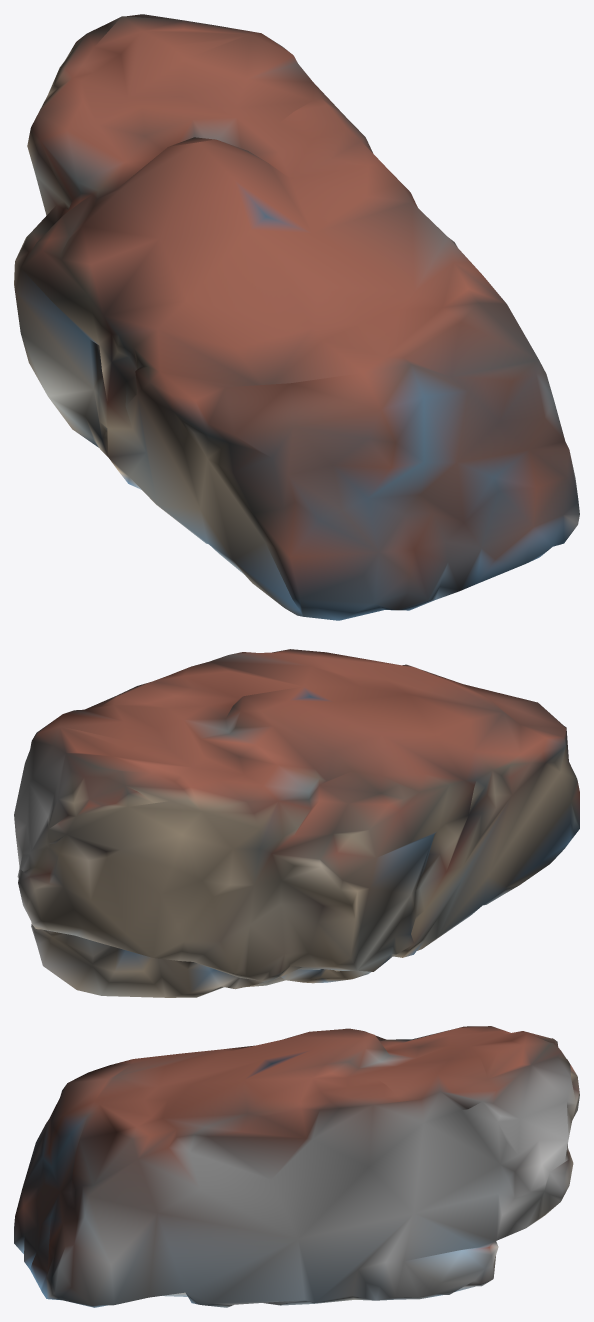
File: rock-07.lod1.888b24dd.glb
3 renders of one model, top to bottom at view 1: azimuth 30°, elevation 25°; view 2: azimuth 150°, elevation 25°; view 3: azimuth 270°, elevation 25°, orthographic. The views are drawn at different scales.
Visible parts, largest first — view 1: model; view 2: model; view 3: model.
Part boxes in pixels (x1=…): model: x1=14, y1=14, x2=579, y2=620; model: x1=14, y1=649, x2=579, y2=997; model: x1=14, y1=1026, x2=579, y2=1307.
Size of the model in its own units: 0.1671 by 0.1434 by 0.3194.
